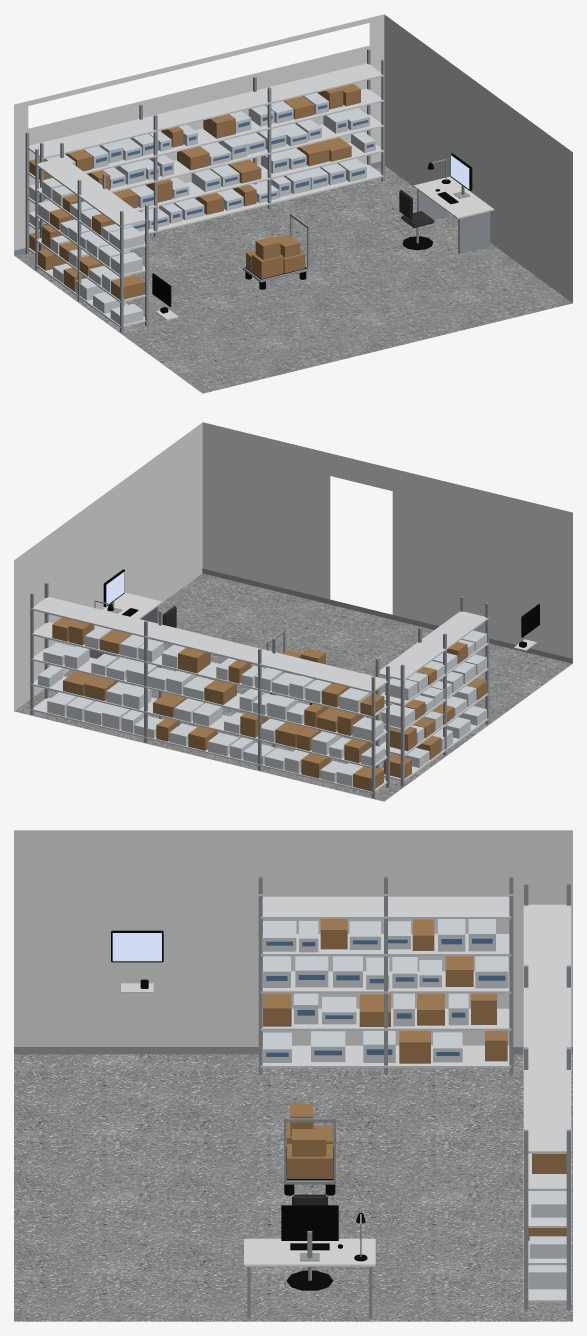
Rendered from room-stock.glb.
The picture shows the model from 3 angles, top to bottom: view 1: azimuth 30°, elevation 25°; view 2: azimuth 150°, elevation 25°; view 3: azimuth 270°, elevation 25°; orthographic projection. The views are drawn at different scales.
Visible parts, largest first — view 1: stock_shell, stock_boxes, stock_racking, procura_desk, stock_trolley, pims_tablet; view 2: stock_shell, stock_boxes, stock_racking, procura_desk, pims_tablet, stock_trolley; view 3: stock_shell, stock_racking, stock_boxes, procura_desk, stock_trolley, screen_pims, pims_tablet.
Boxes of the visible parts, box(x1,y1,x2,y2) form: stock_shell: box(14, 14, 572, 393); stock_boxes: box(29, 84, 375, 324); stock_racking: box(25, 49, 384, 332); procura_desk: box(399, 153, 494, 253); stock_trolley: box(243, 213, 309, 289); pims_tablet: box(152, 273, 178, 320); stock_shell: box(14, 422, 572, 801); stock_boxes: box(38, 617, 486, 791); stock_racking: box(30, 582, 489, 798); procura_desk: box(89, 569, 176, 666); pims_tablet: box(513, 604, 539, 651); stock_trolley: box(266, 629, 325, 704); stock_shell: box(14, 830, 572, 1321); stock_racking: box(258, 876, 571, 1310); stock_boxes: box(263, 919, 566, 1289); procura_desk: box(244, 1194, 375, 1318); stock_trolley: box(283, 1104, 336, 1195); screen_pims: box(112, 933, 161, 961); pims_tablet: box(111, 930, 163, 993).
Bounding box in the file's own units: 7.7 × 3 × 6.8.
13 materials, 1 textured.
